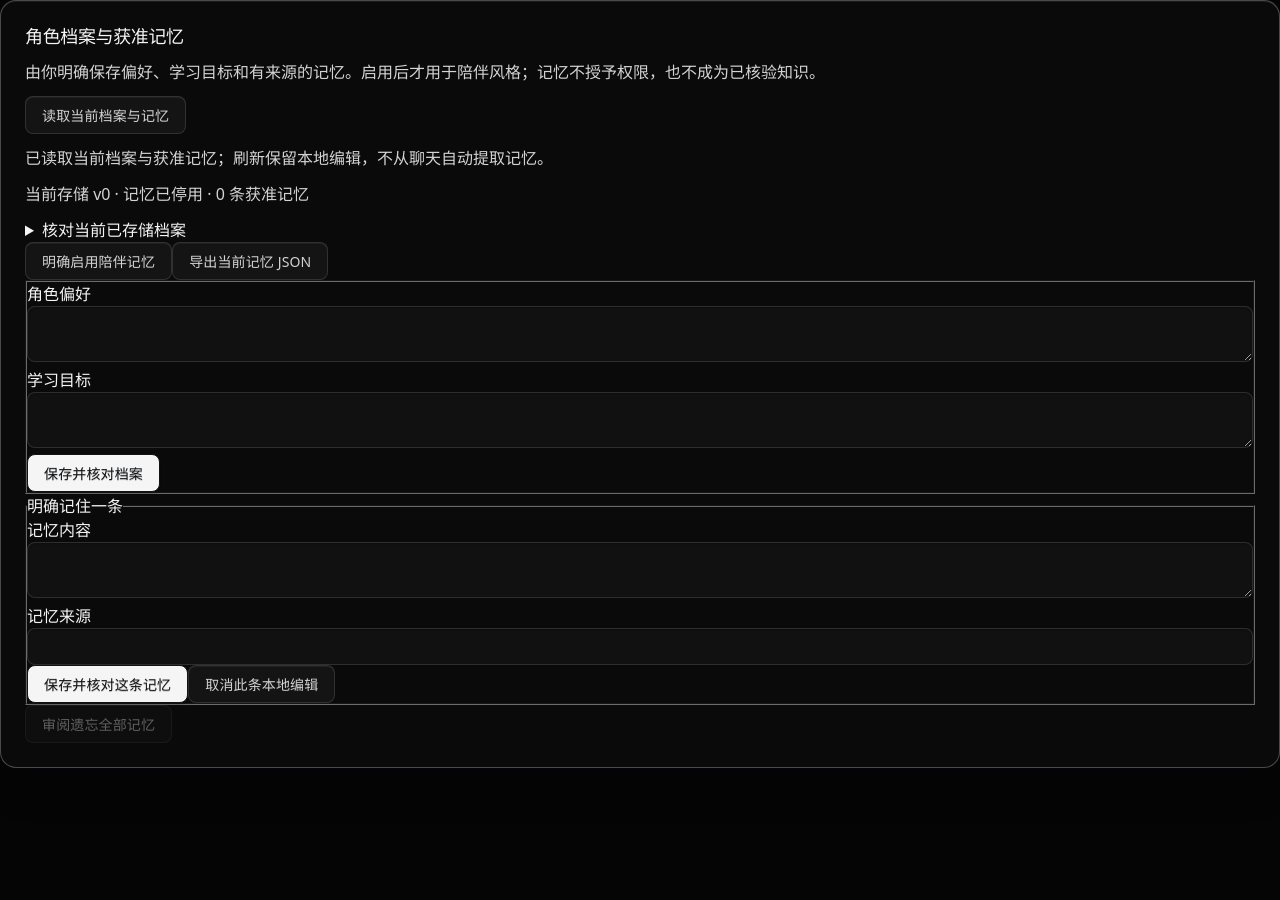
Scenario: SIMULATED mismatched identity in an ACK never shows persisted success
expect the text "当前存储 v0 · 记忆已停用 · 0 条获准记忆" is shown: met, box x1=25 y1=182 x2=309 y2=204
Type "保留我的输入" into the text box labelled "角色偏好".
click(640, 334); type("保留我的输入")  # box x1=27 y1=306 x2=1253 y2=362
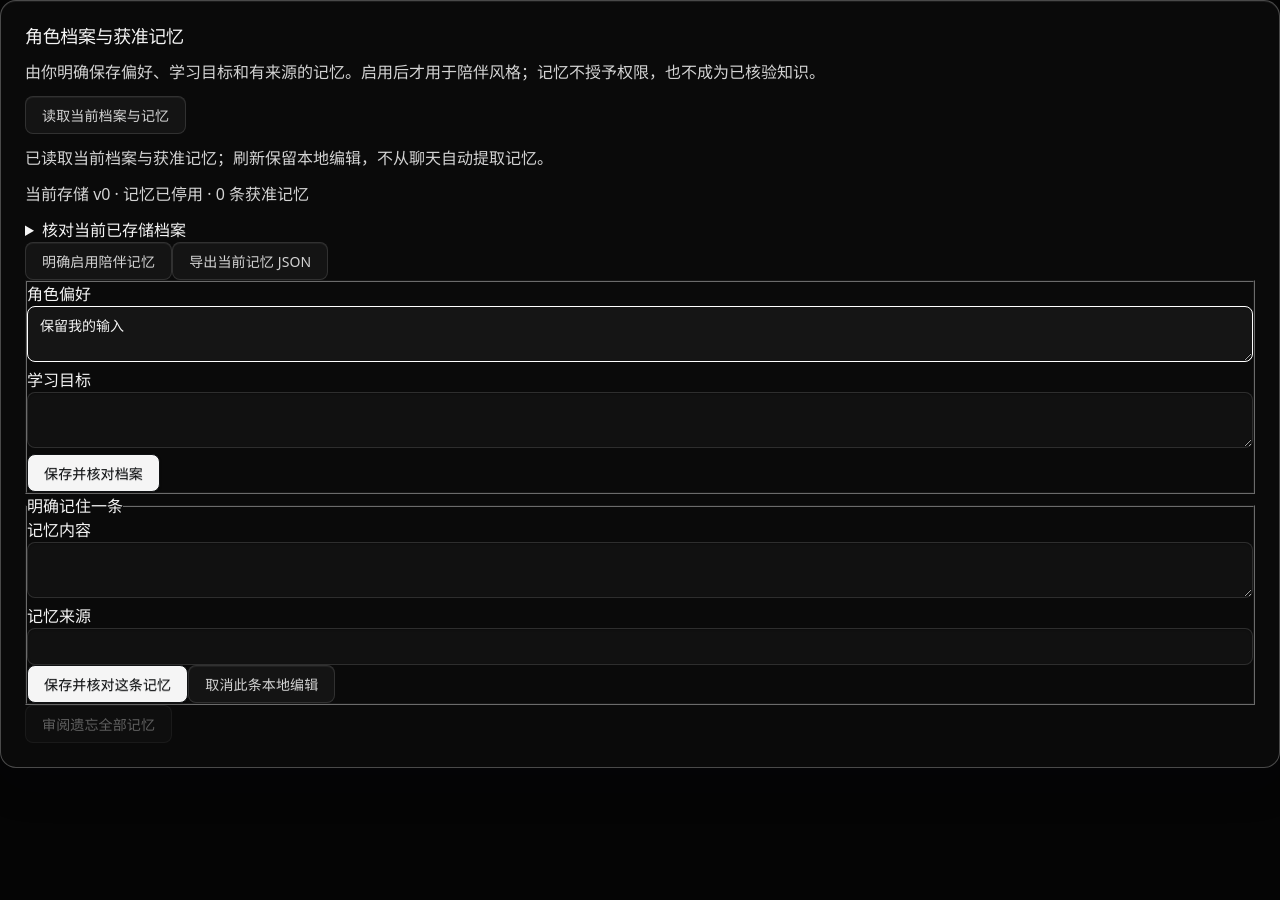
Click the button "保存并核对档案".
click(94, 472)  # box x1=27 y1=454 x2=160 y2=492
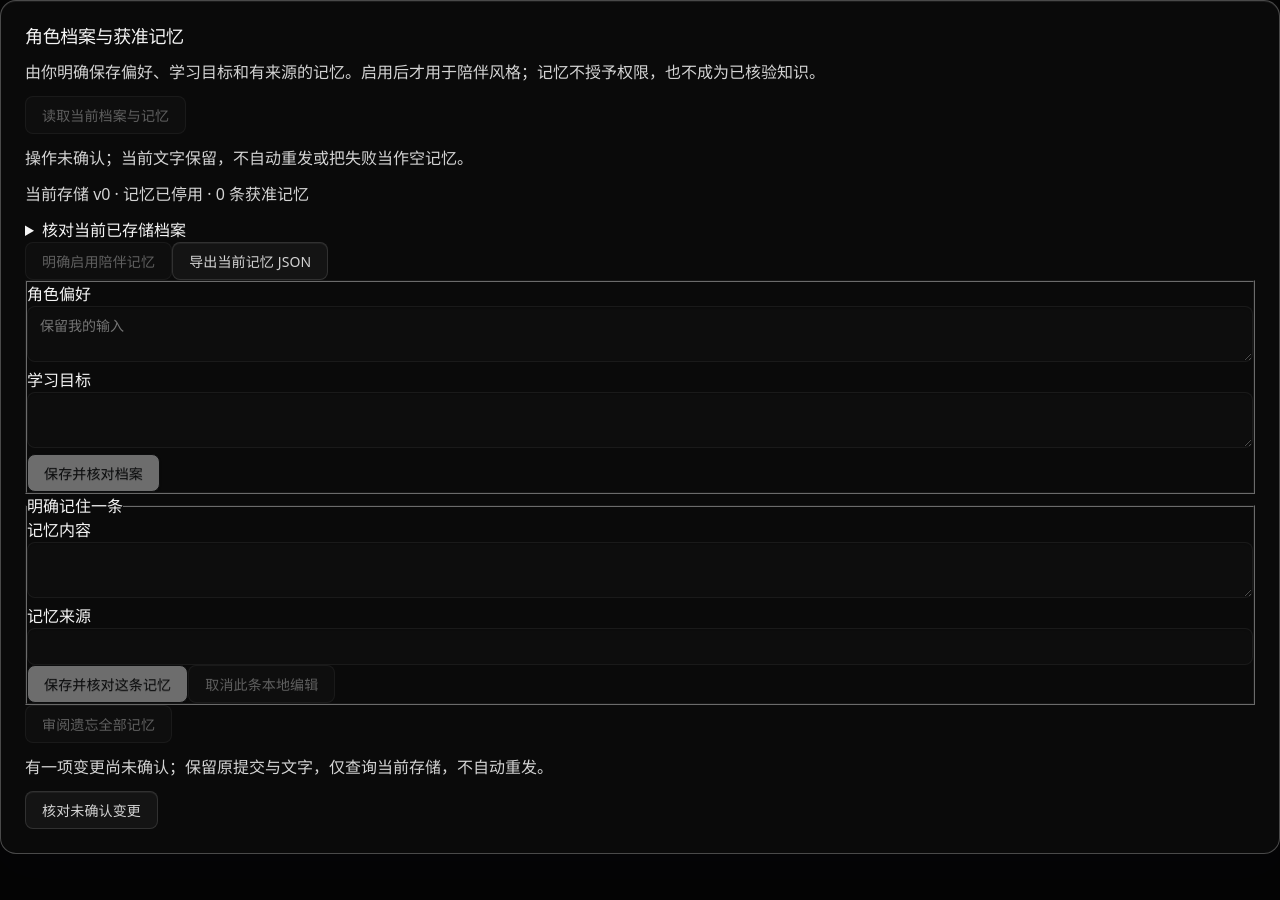
expect the text "操作未确认；当前文字保留，不自动重发或把失败当作空记忆。" is shown: met, box x1=25 y1=146 x2=473 y2=168
expect the button "核对未确认变更" is shown: met, box x1=25 y1=790 x2=158 y2=828
